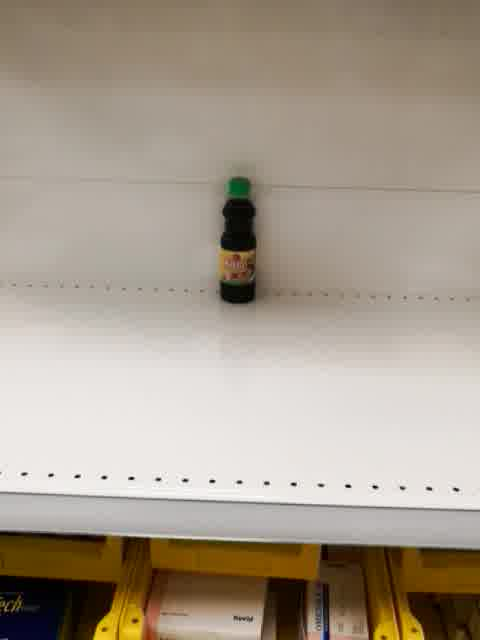cookingoil: (217, 174, 259, 306)
